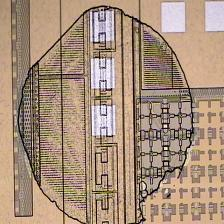PARTICLE: (18, 6, 196, 224)
